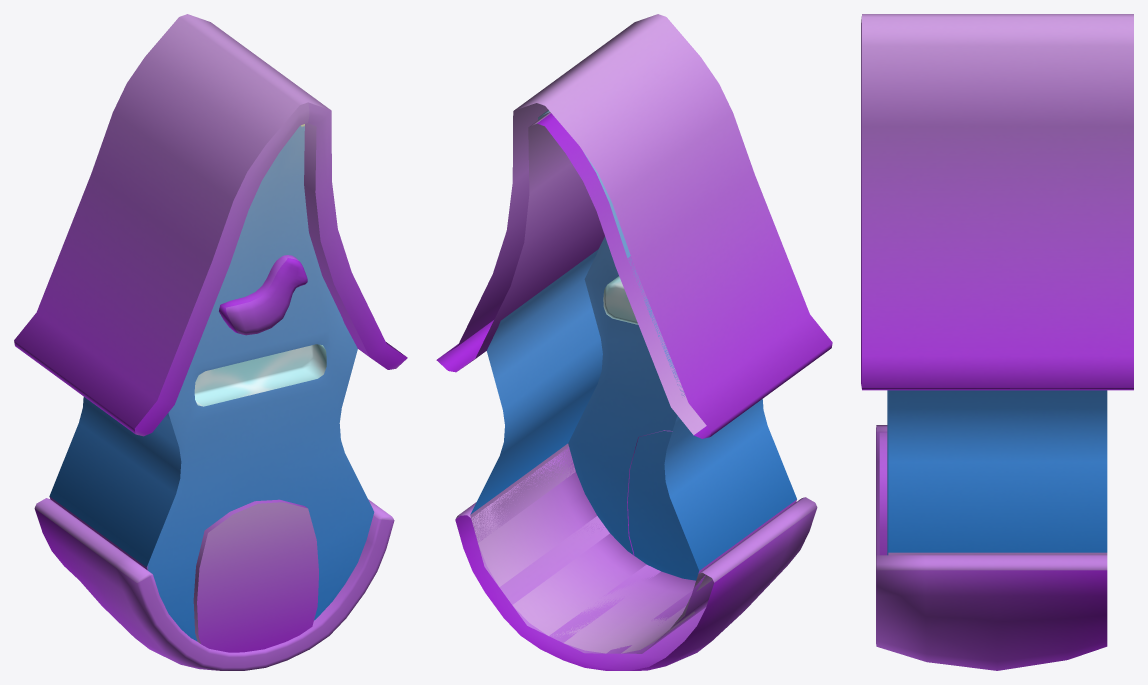
File: Mailbox_D_blue.fbx
3 views of the same model, side by side, from view 1: azimuth 30°, elevation 25°; view 2: azimuth 150°, elevation 25°; view 3: azimuth 270°, elevation 25° (orthographic). The views are drawn at different scales.
Parts seen in each view (by area): view 1: MailboxD_blue; view 2: MailboxD_blue; view 3: MailboxD_blue.
Boxes of the visible parts, x1=… form: MailboxD_blue: x1=14, y1=14, x2=407, y2=670; MailboxD_blue: x1=436, y1=14, x2=832, y2=670; MailboxD_blue: x1=861, y1=14, x2=1133, y2=670.
Bounding box in the file's own units: 1.2 × 0.9207 × 2.45.
